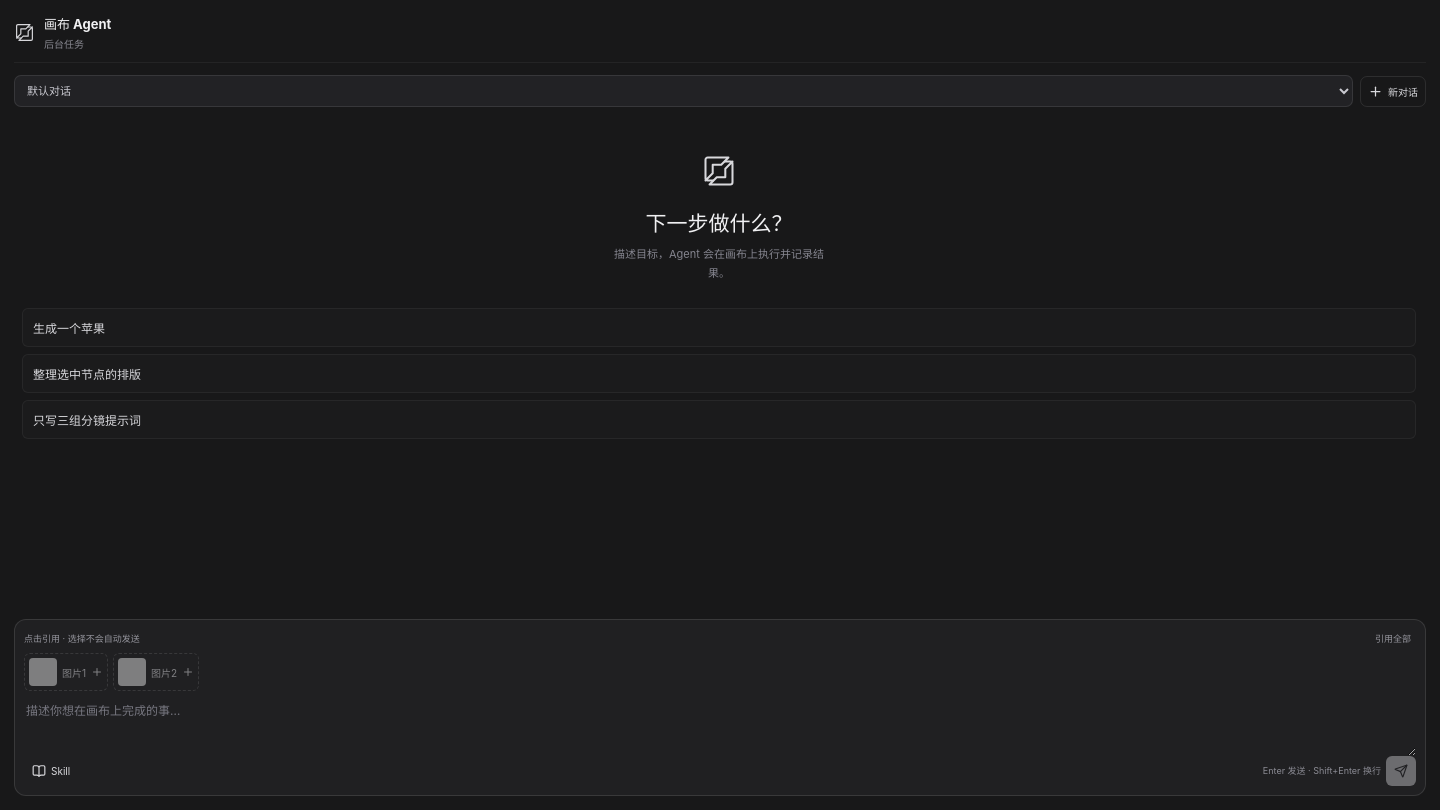
AgentSidebarPanel backend runs › sends only individually confirmed images and waits for confirmed canvas revision
This screenshot has width=1440, height=810.
Later steps or results of the test are not shown.
Expected: the button with aria-label "引用 图片1" is shown, [24,653,108,691]
Click the button with aria-label "引用 图片2": (156, 672) [113,653,199,691]
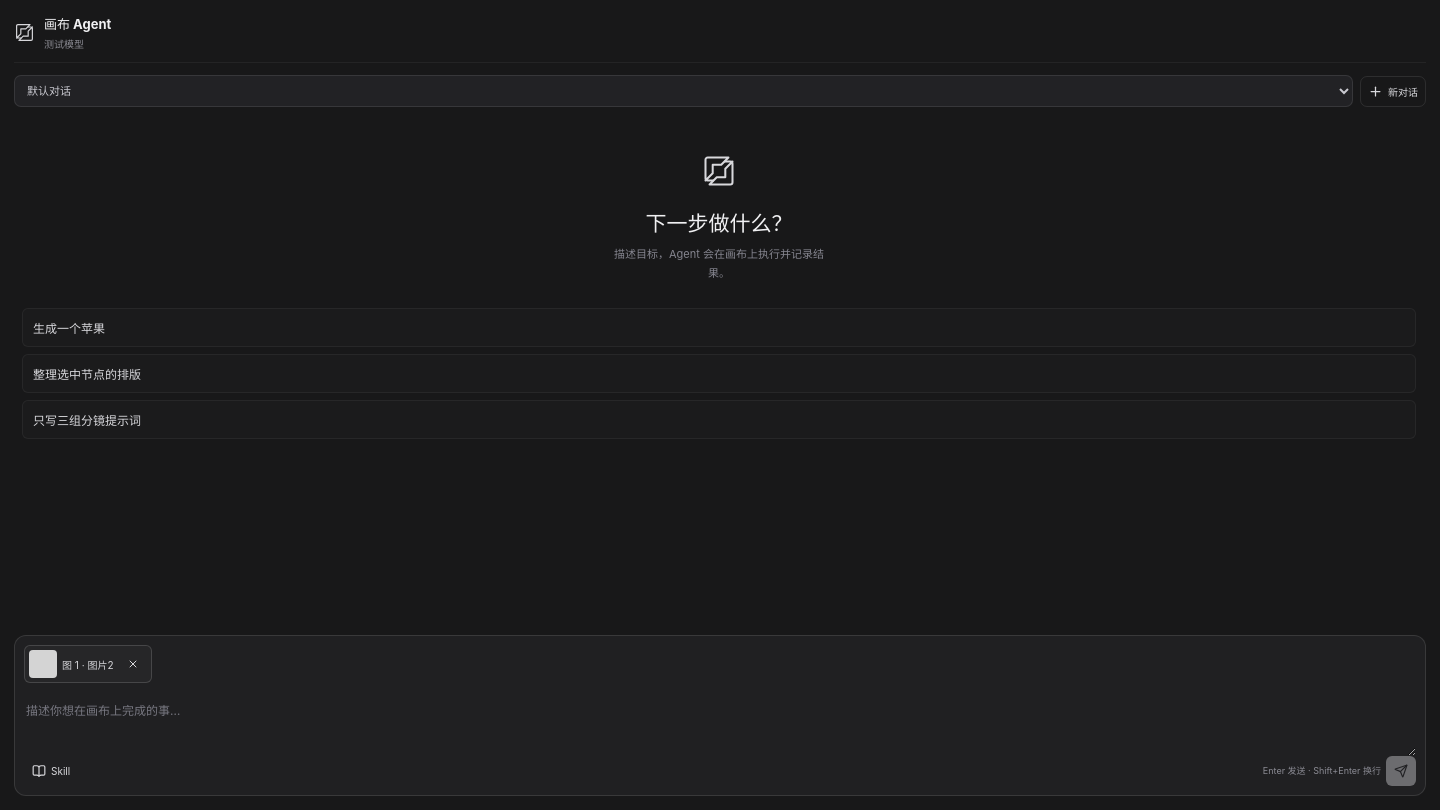
Expected: the button named "移除引用 图片2" is shown, [118,652,146,676]
